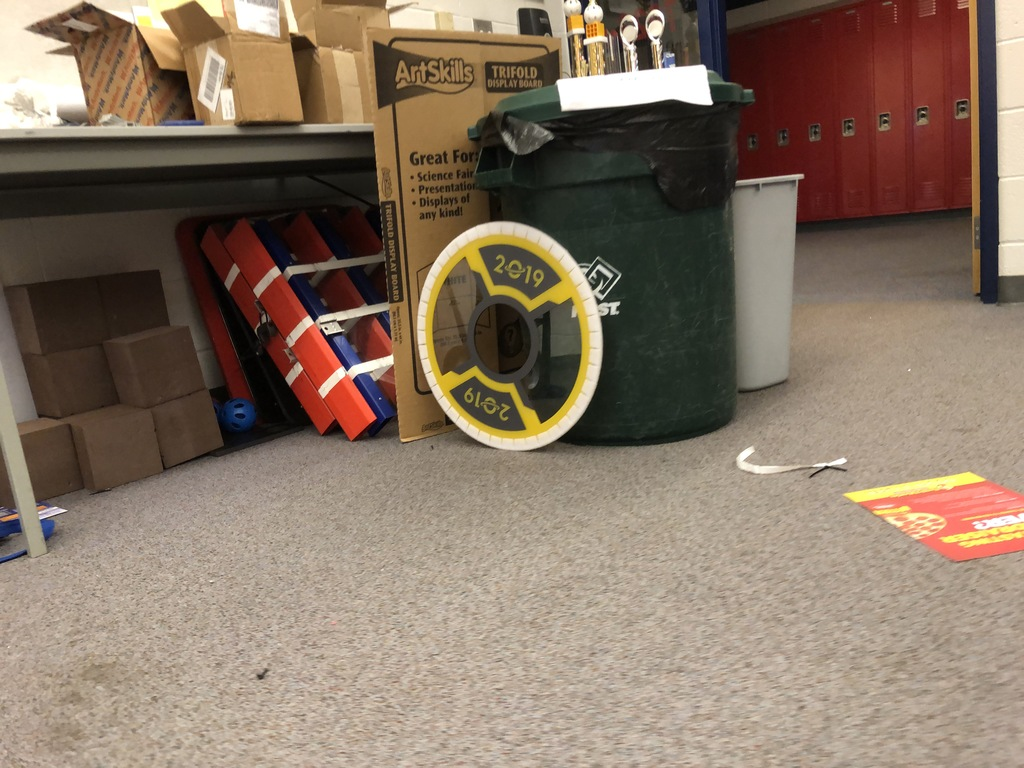hatch_panel: (401, 211, 616, 470)
